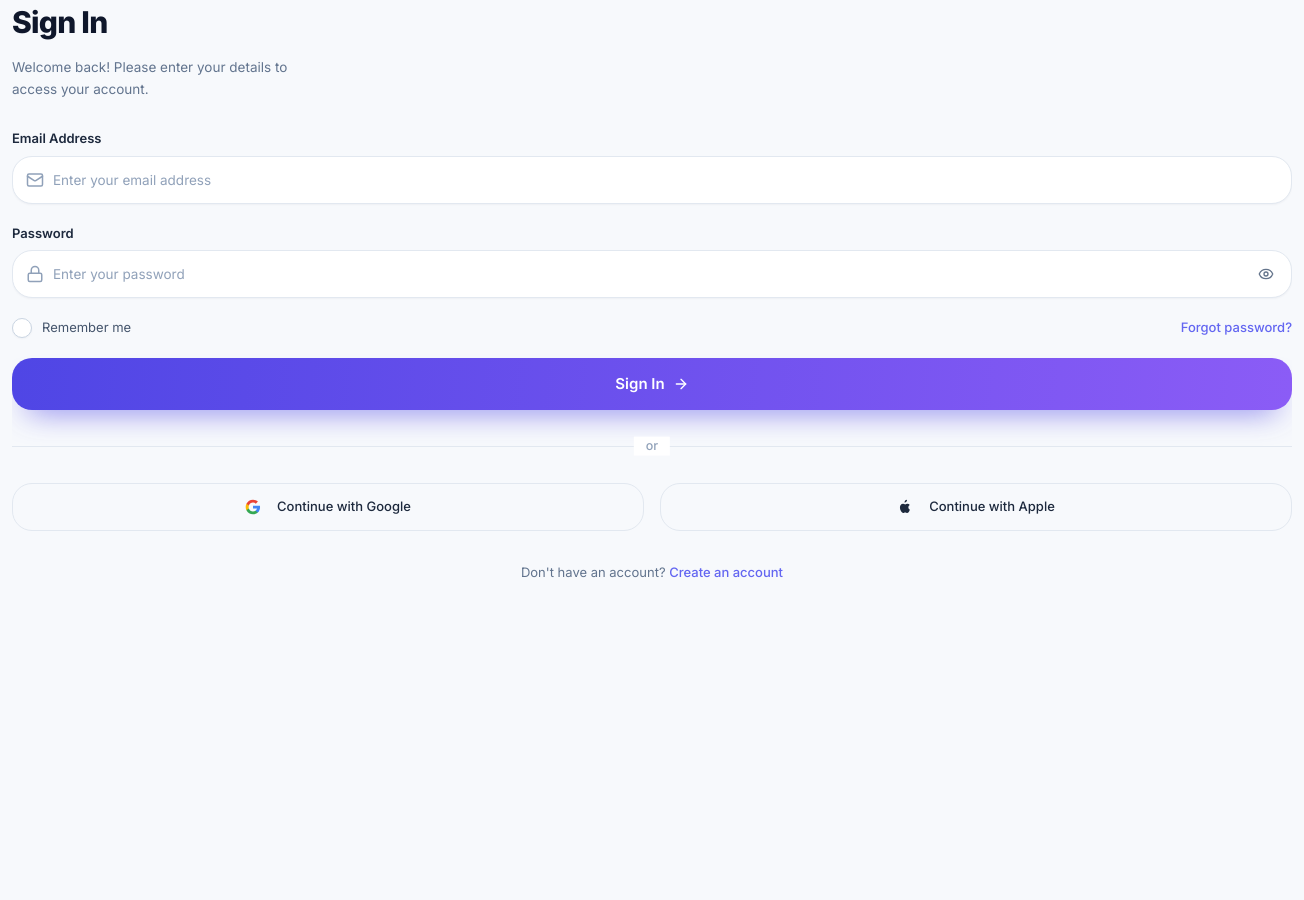
Test: LoginForm › shows error for invalid email format
Step 1. Type "not-an-email" into the field labelled "Email Address" → (652, 180), box [12,156,1292,204]
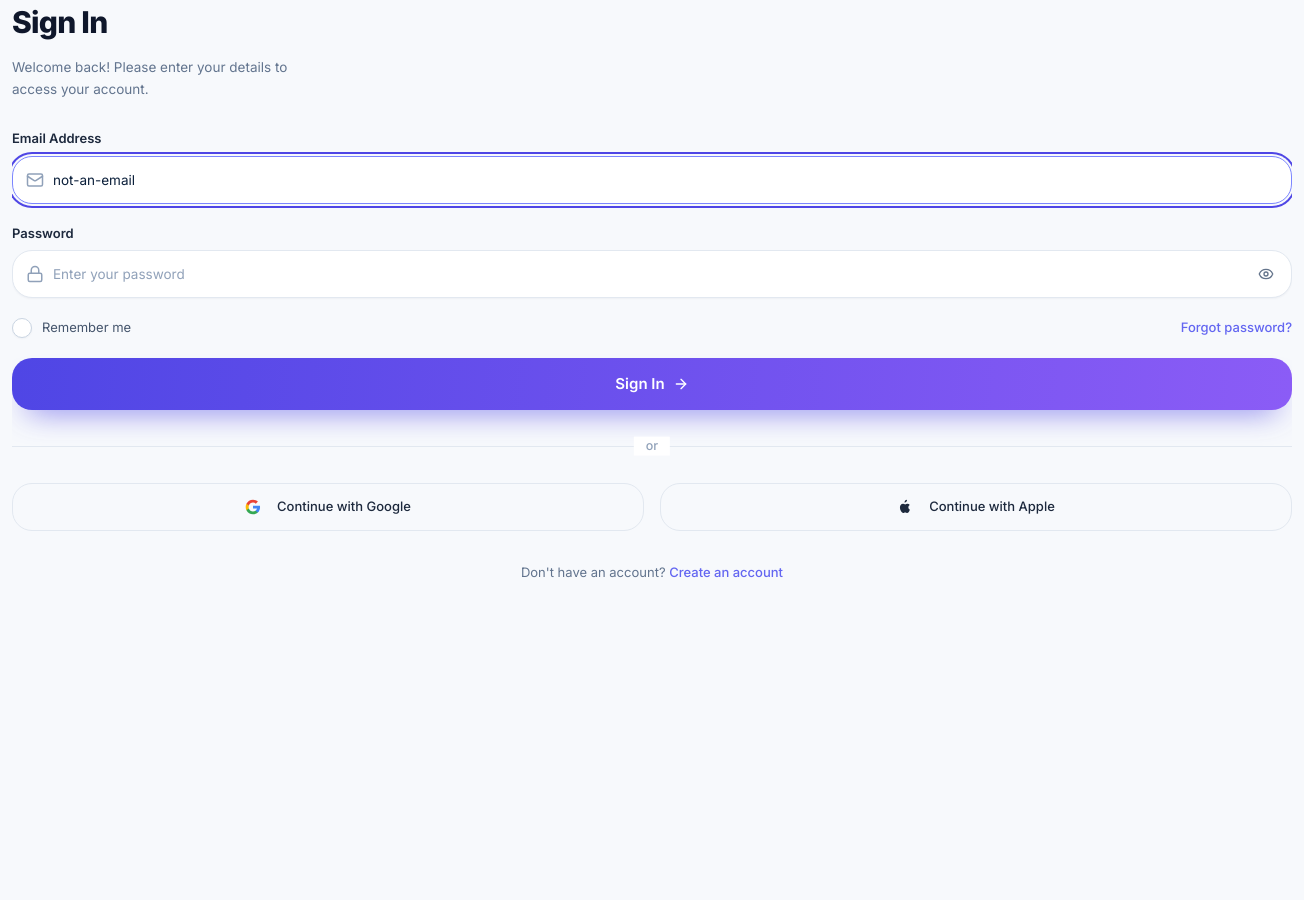
Step 2. Click the button "Sign In" → (652, 384), box [12,358,1292,410]
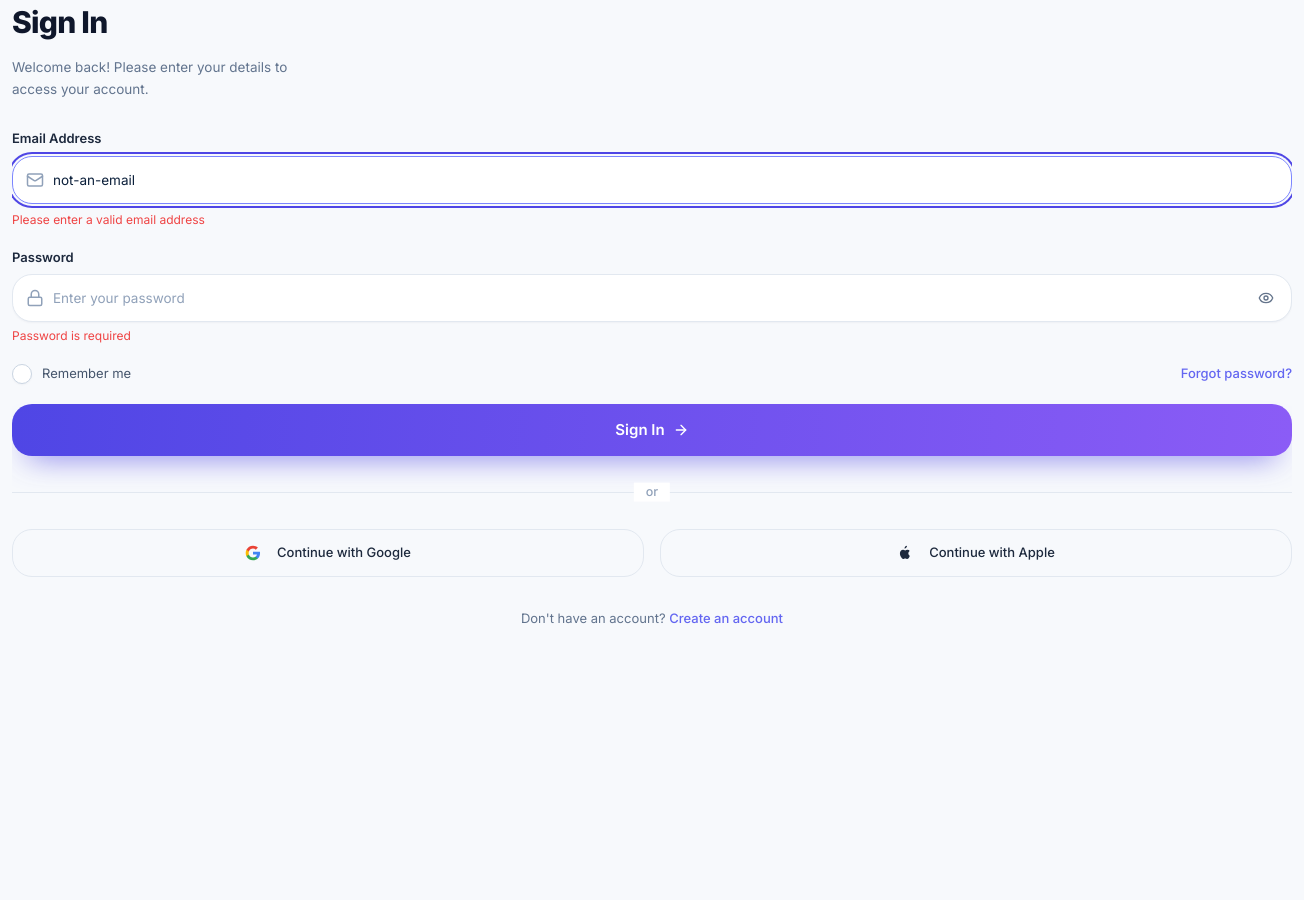
Now the text "Please enter a valid email address" is shown, box [12,212,205,227]
